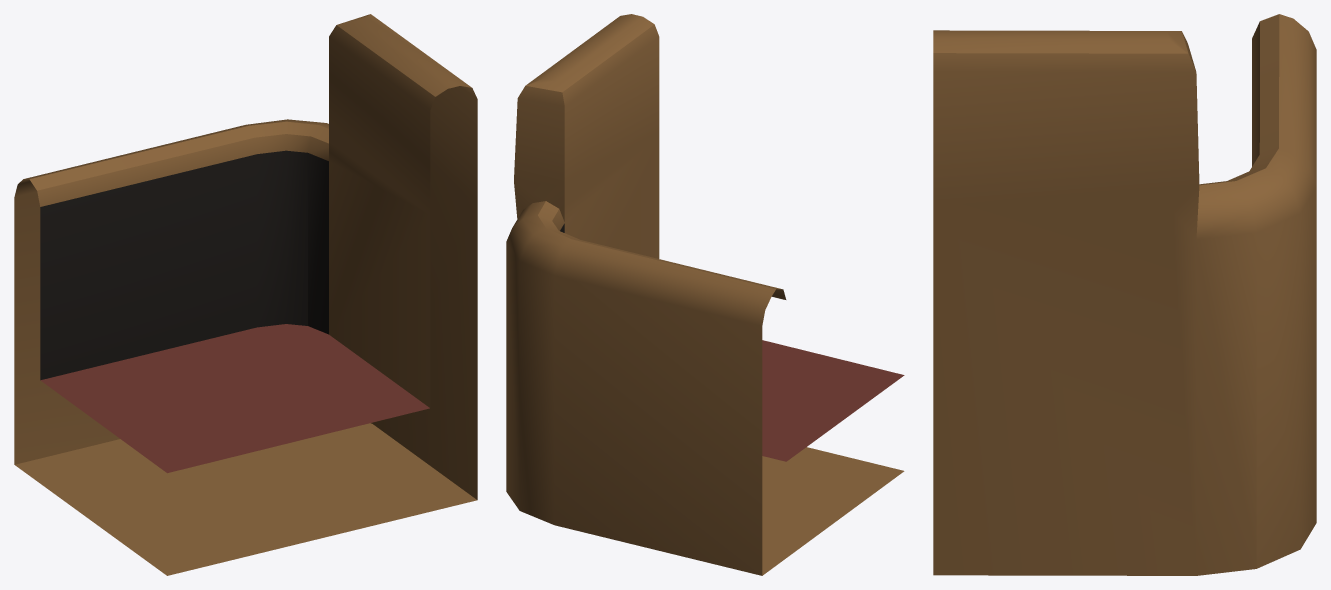
3 views of the same model, side by side, from view 1: azimuth 30°, elevation 25°; view 2: azimuth 150°, elevation 25°; view 3: azimuth 270°, elevation 25° (orthographic). The views are drawn at different scales.
Visible parts, largest first — view 1: box2; view 2: box2; view 3: box2.
Part boxes in pixels (bbox=[...]): box2: bbox=[14, 14, 477, 575]; box2: bbox=[506, 14, 904, 575]; box2: bbox=[933, 14, 1316, 575].
Bounding box in the file's own units: 202 × 258 × 171.
